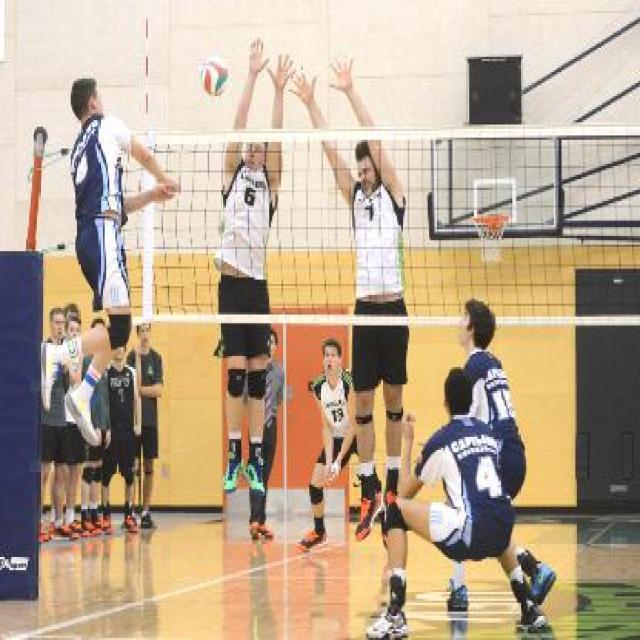volleyball: (198, 52, 232, 96)
